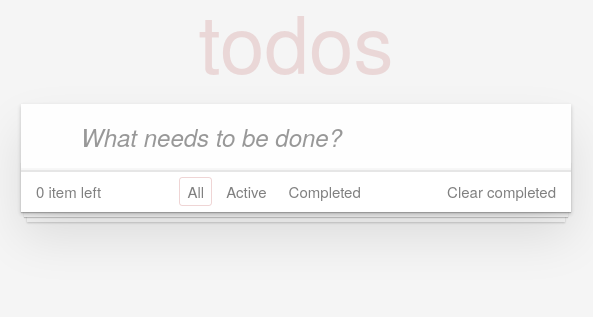
App Component › clears completed todos
Type "Task to be cleared" into the field with placeholder "What needs to be done?".
click(296, 137); type("Task to be cleared")  # box [21, 104, 571, 170]
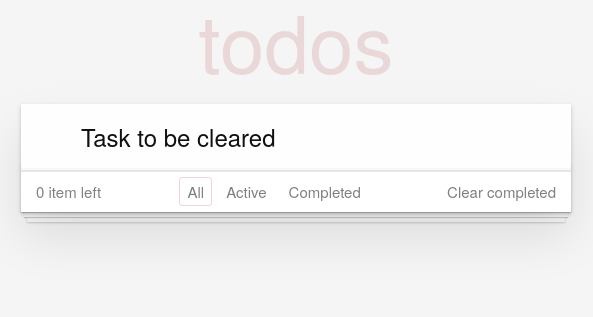
Press Enter in the field with placeholder "What needs to be done?", box [21, 104, 571, 170]
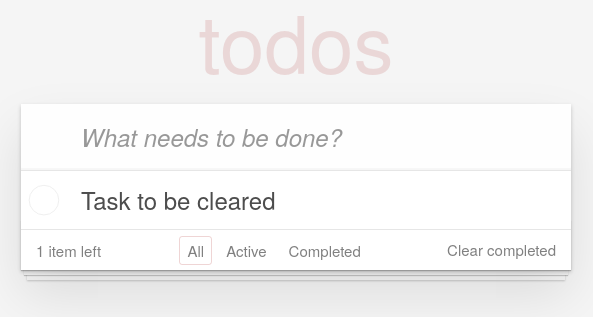
Click the checkbox.
click(296, 200)  # box [21, 171, 571, 229]
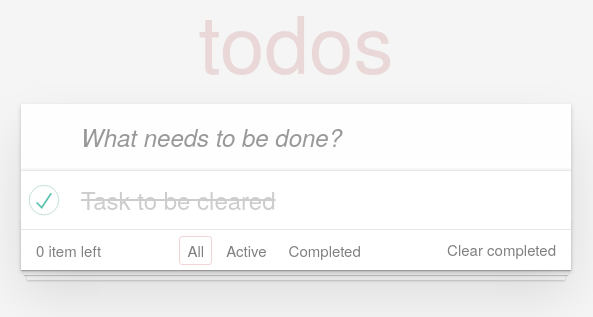
Click the button "Clear completed".
click(502, 250)  # box [447, 240, 556, 260]
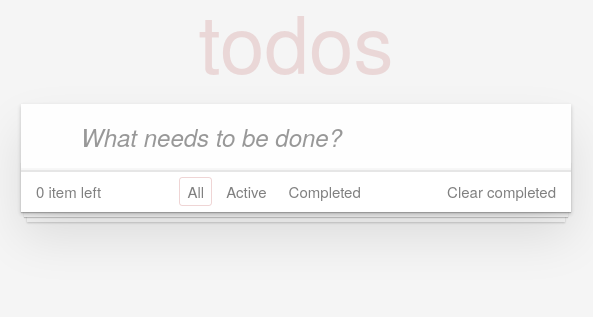
Now the text "Task to be cleared" is gone
